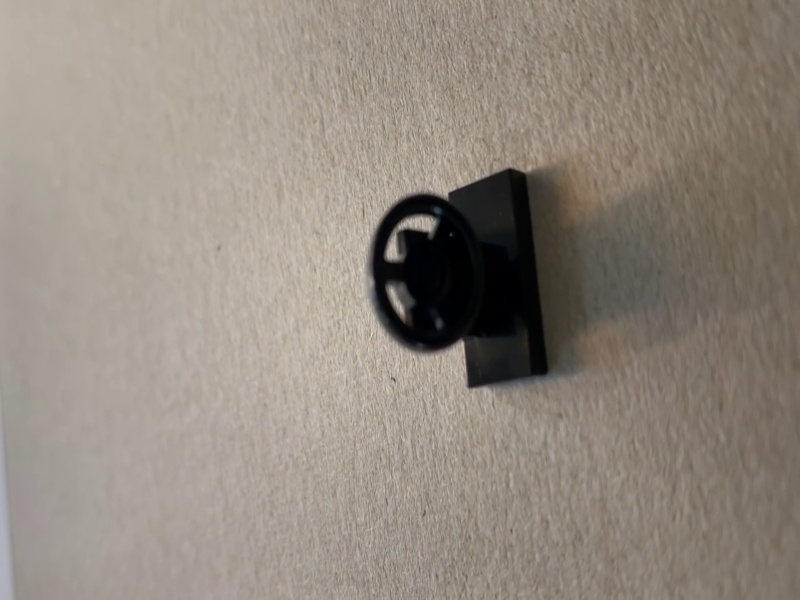steering wheel: (366, 165, 551, 390)
